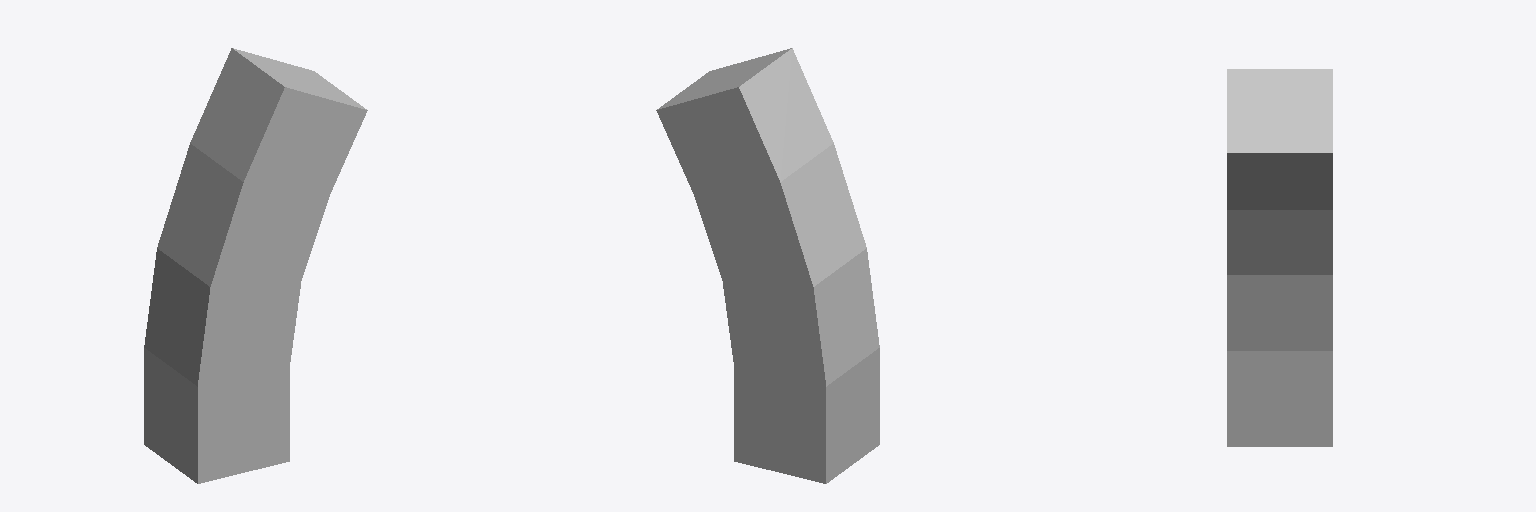
The model's file is Animation_000037.obj.
The picture shows the model from 3 angles: view 1: azimuth 30°, elevation 25°; view 2: azimuth 150°, elevation 25°; view 3: azimuth 270°, elevation 25°; orthographic projection.
Parts seen in each view (by area): view 1: Cube; view 2: Cube; view 3: Cube.
Part boxes in pixels (bbox=[...]): Cube: bbox=[144, 48, 367, 483]; Cube: bbox=[656, 48, 879, 483]; Cube: bbox=[1227, 69, 1332, 446].
Bounding box in the file's own units: 2.45 × 5.16 × 1.33.